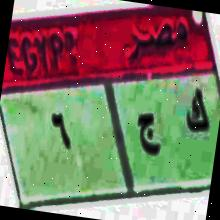6: (46, 103, 77, 164)
jeem: (130, 106, 166, 166)
kaaf: (183, 80, 214, 154)
